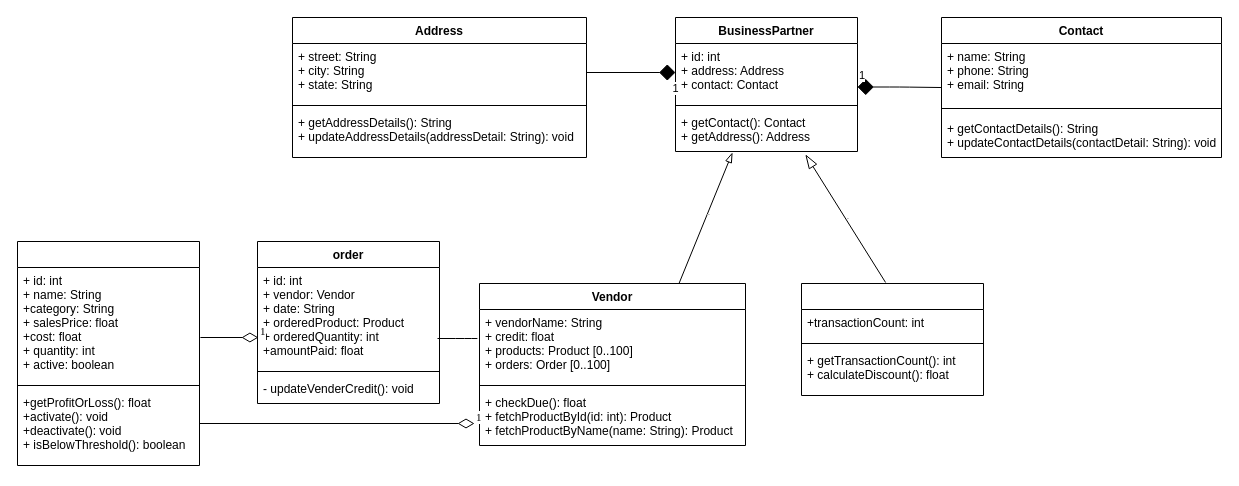
This 1239x486 diagram has some shape labels left out. Each missing label, with the box of its shape:
Customer: (800, 282, 984, 396)
Product: (16, 240, 200, 466)
